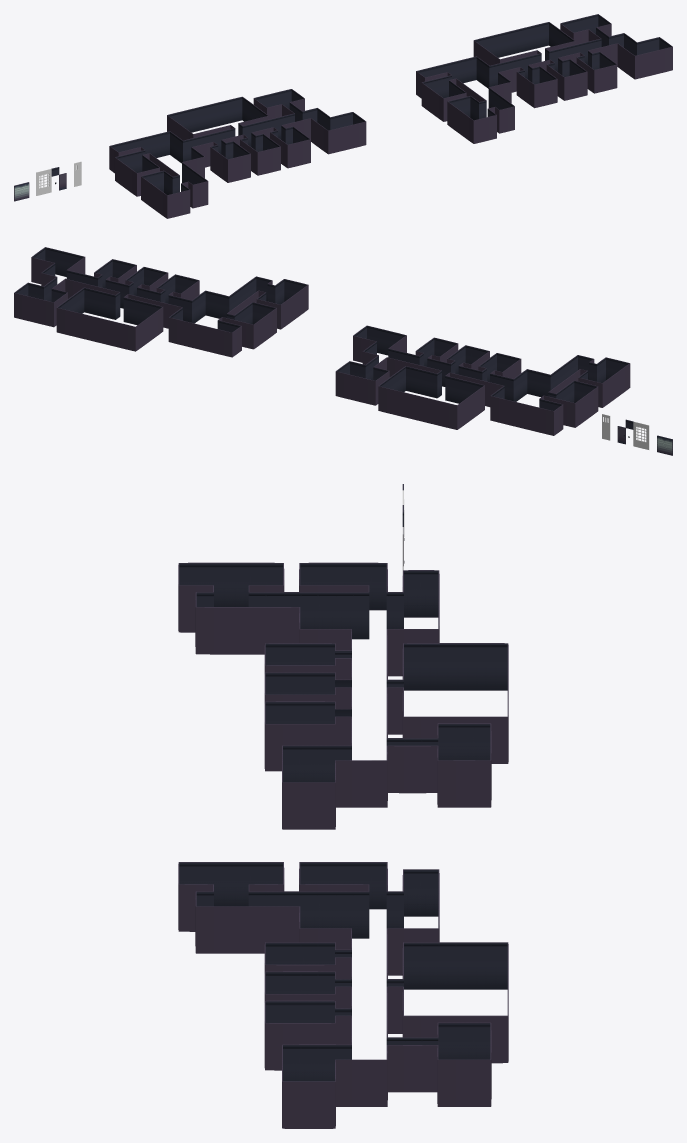
File: security pad.fbx
The picture shows the model from 3 angles, top to bottom: view 1: azimuth 30°, elevation 25°; view 2: azimuth 150°, elevation 25°; view 3: azimuth 270°, elevation 25°; orthographic projection. The views are drawn at different scales.
Parts seen in each view (by area): view 1: full layout, full layout.001, Store 3 Walls, WC Walls 2, WC Walls 1; view 2: full layout, full layout.001, Store 3 Walls, WC Walls 2; view 3: full layout, full layout.001, WC Walls 2, Store 3 Walls.
Boxes of the visible parts, left/top/right/bottom form: full layout: left=109, top=89, right=366, bottom=218; full layout.001: left=416, top=14, right=672, bottom=143; Store 3 Walls: left=500, top=41, right=583, bottom=82; WC Walls 2: left=573, top=23, right=623, bottom=64; WC Walls 1: left=603, top=43, right=621, bottom=69; full layout: left=335, top=325, right=630, bottom=435; full layout.001: left=14, top=247, right=308, bottom=357; Store 3 Walls: left=84, top=276, right=166, bottom=328; WC Walls 2: left=28, top=273, right=80, bottom=302; full layout: left=178, top=562, right=508, bottom=829; full layout.001: left=178, top=862, right=508, bottom=1128; WC Walls 2: left=386, top=1023, right=438, bottom=1103; Store 3 Walls: left=335, top=942, right=403, bottom=1036.
Size of the model in its own units: 8407 by 301 by 1914.
